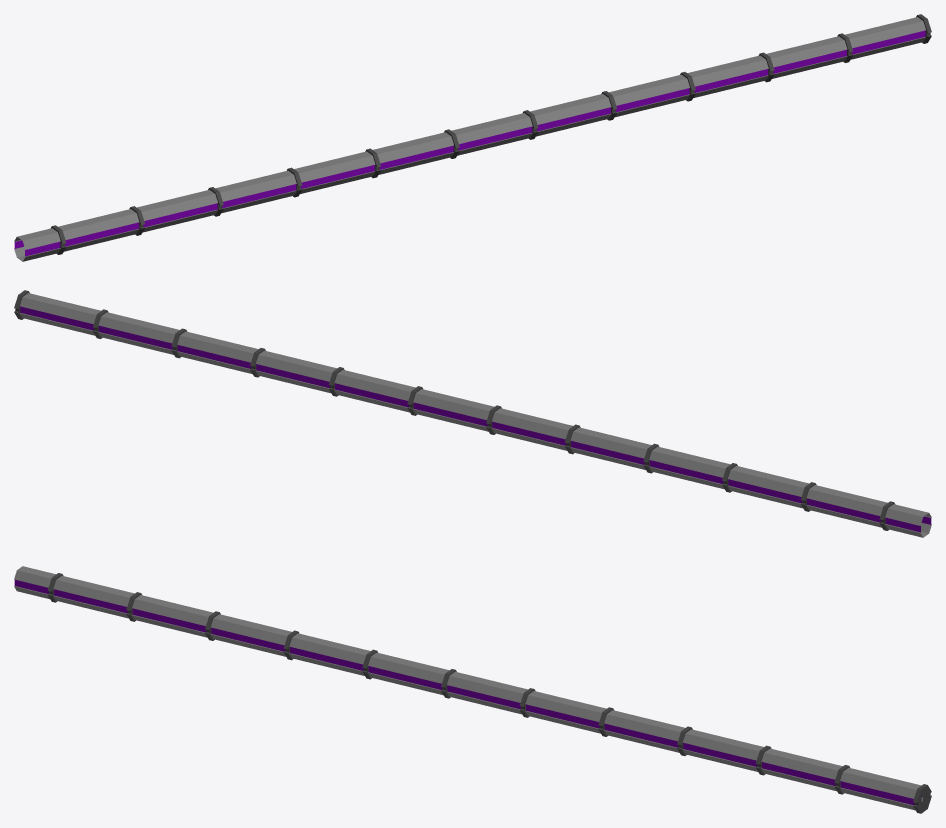
File: KF_Train_Rail (1).fbx
3 renders of one model, top to bottom at view 1: azimuth 30°, elevation 25°; view 2: azimuth 150°, elevation 25°; view 3: azimuth 330°, elevation 25°, orthographic.
Parts seen in each view (by area): view 1: KF_Train_Rail; view 2: KF_Train_Rail; view 3: KF_Train_Rail.
Boxes of the visible parts, x1,y1,x2,y2 form: KF_Train_Rail: [14, 14, 931, 261]; KF_Train_Rail: [14, 290, 931, 537]; KF_Train_Rail: [14, 566, 931, 813].
Bounding box in the file's own units: 12218 × 310 × 351.
